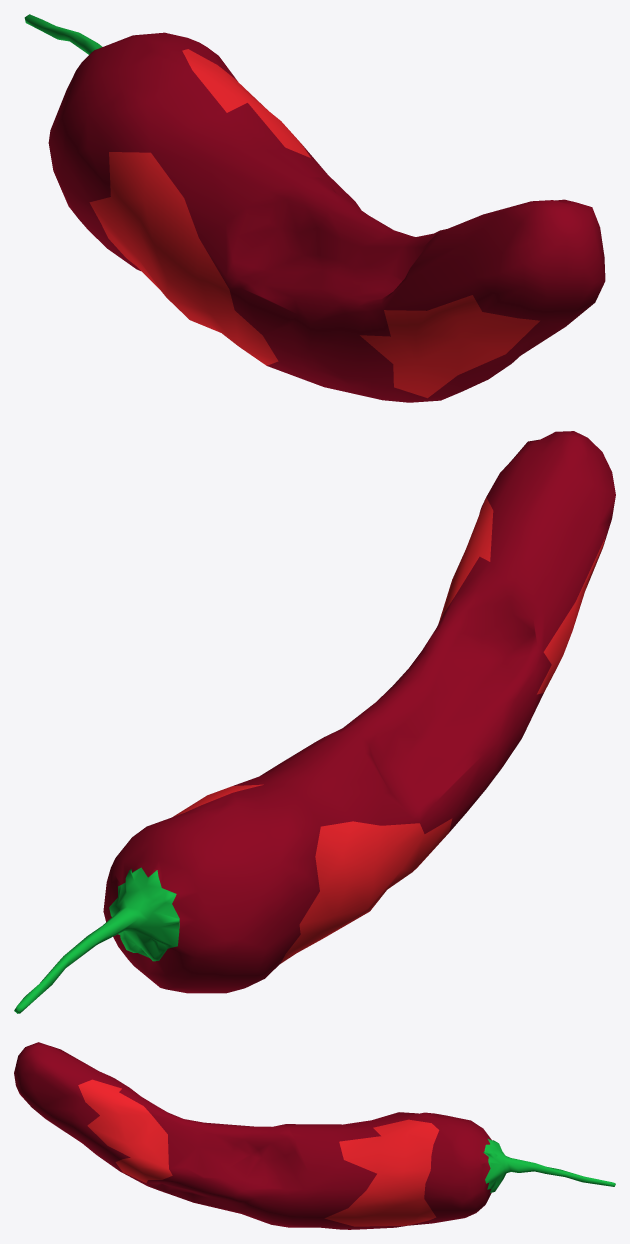
Rendered from chili.fbx.
3 views of the same model, one above another, from view 1: azimuth 30°, elevation 25°; view 2: azimuth 150°, elevation 25°; view 3: azimuth 270°, elevation 25° (orthographic). The views are drawn at different scales.
Visible parts, largest first — view 1: 25_04_2017_10_40_01; view 2: 25_04_2017_10_40_01; view 3: 25_04_2017_10_40_01.
Boxes of the visible parts, x1,y1,x2,y2 form: 25_04_2017_10_40_01: [24, 14, 605, 402]; 25_04_2017_10_40_01: [14, 431, 615, 1013]; 25_04_2017_10_40_01: [14, 1042, 615, 1229].
Bounding box in the file's own units: 73.73 × 127 × 394.
